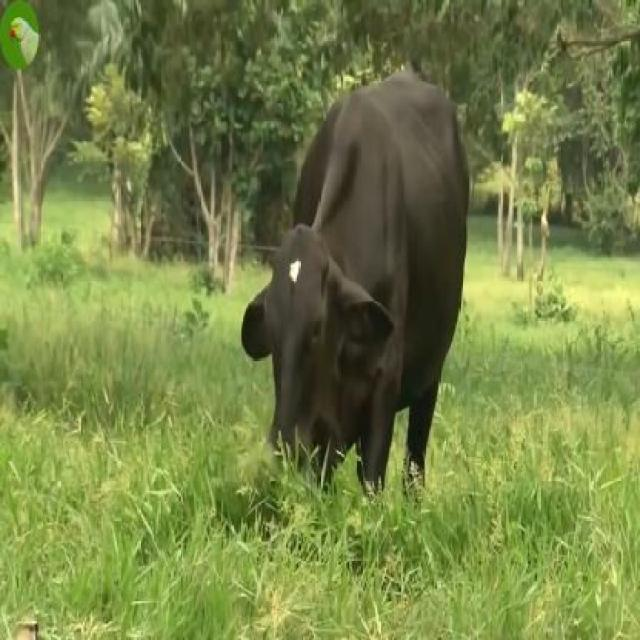Cow: (243, 66, 469, 512)
